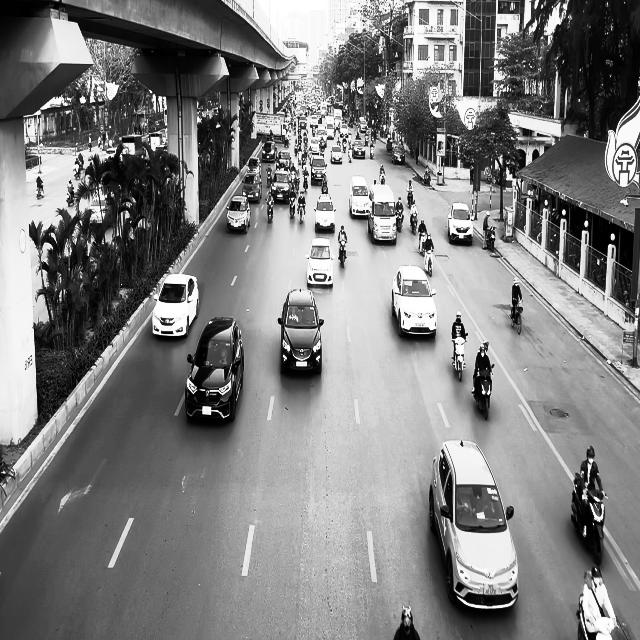car: (428, 439, 518, 611), (185, 315, 244, 423), (278, 288, 324, 375), (392, 264, 438, 338), (152, 273, 199, 339), (306, 236, 336, 288), (448, 202, 473, 245), (226, 195, 251, 233), (349, 175, 370, 219), (314, 192, 336, 233), (392, 145, 405, 164)
motorbike: (571, 472, 608, 566), (472, 363, 494, 420), (452, 333, 468, 381), (510, 300, 523, 334), (338, 238, 348, 268), (424, 246, 434, 276), (486, 226, 496, 250), (266, 198, 274, 223), (396, 209, 404, 232), (66, 188, 75, 205), (36, 181, 44, 199)
